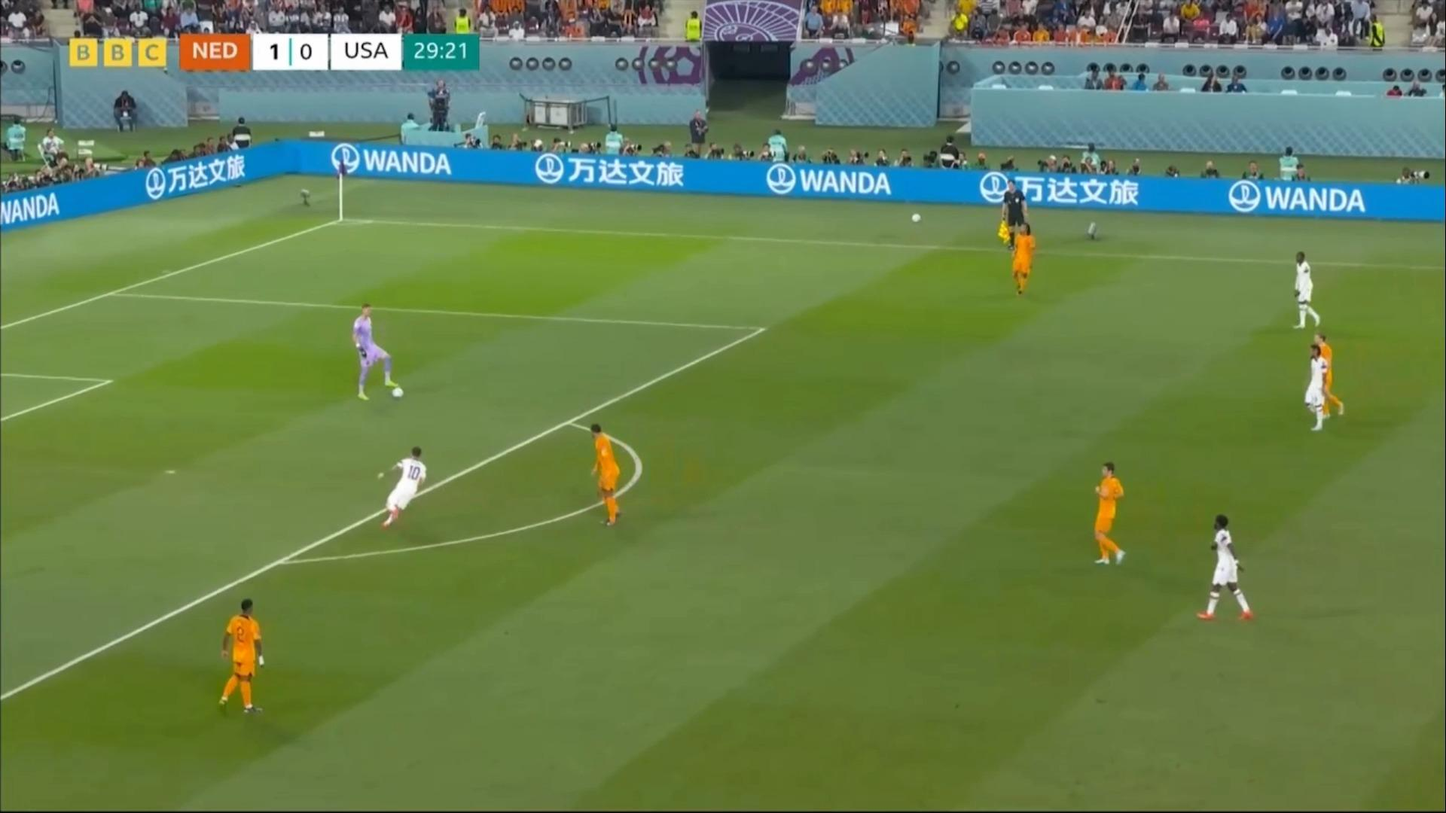Ball: (389, 386, 401, 401), (911, 211, 921, 225)
Player: (1195, 512, 1259, 627), (213, 599, 273, 716), (1086, 461, 1136, 569), (370, 442, 429, 533), (352, 303, 404, 401), (582, 423, 625, 531), (1302, 342, 1339, 432), (1287, 250, 1320, 333), (1314, 338, 1346, 422), (1007, 221, 1039, 297)
Ref: (998, 176, 1029, 253)
